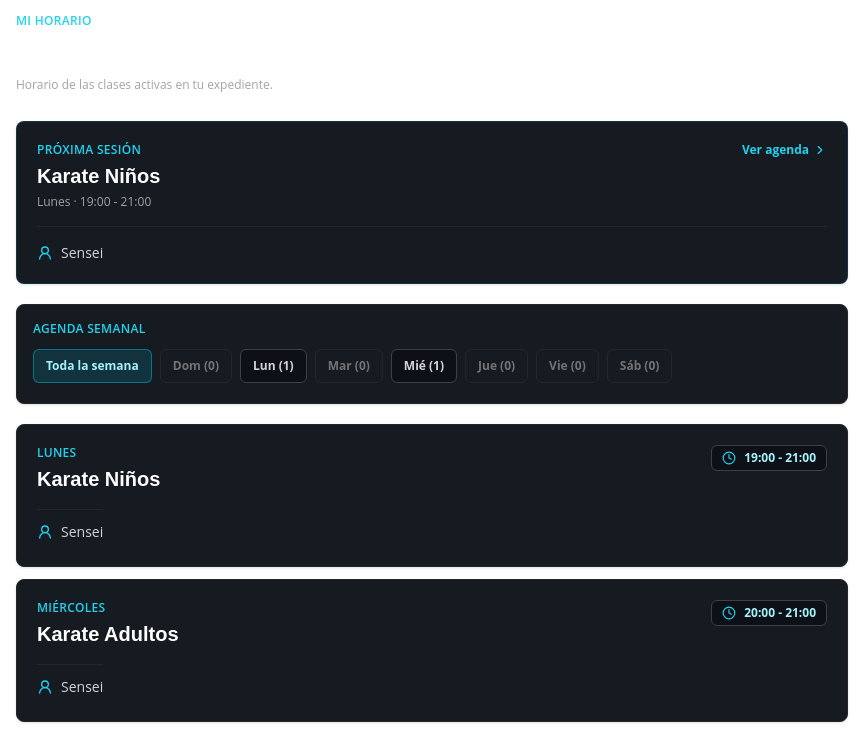
Scenario: F4-03 · horario del alumno › cuenta las clases por día y muestra el vacío del día sin sesiones
Expected: the text "Agenda semanal" is shown, [33,320,146,337]
Expected: the button "Lun (1)" is shown, [240,349,307,383]
Click the button "Dom (0)" at (196, 366), box [160,349,232,383]
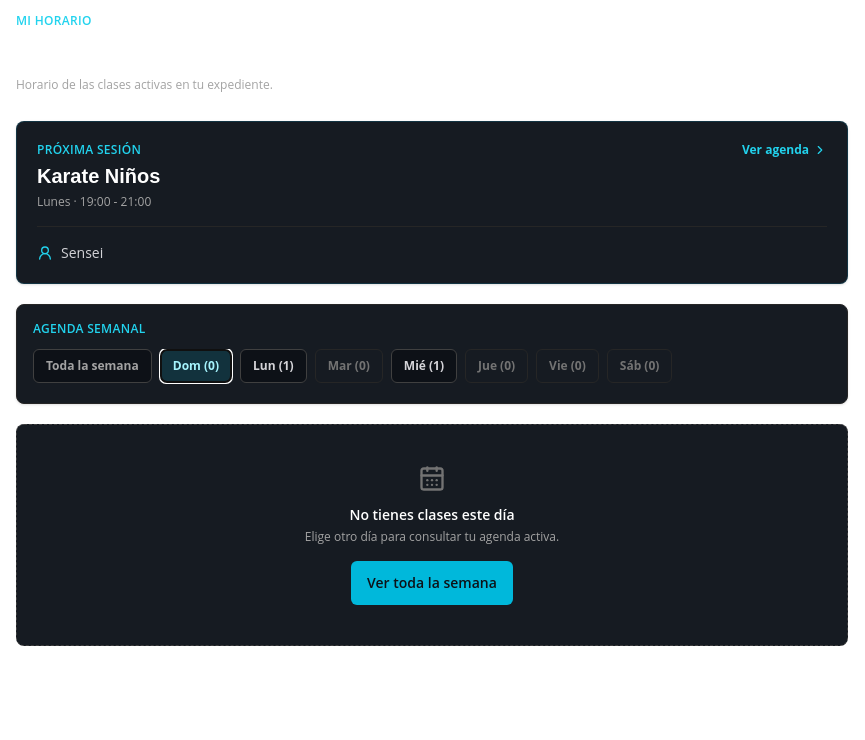
Result: the text "No tienes clases este día" is shown at [349,505,515,524]
